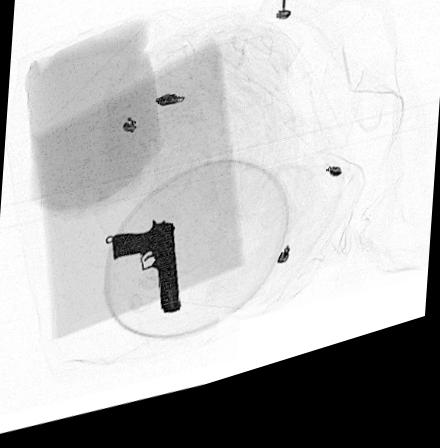Gun: (112, 227, 180, 324)
